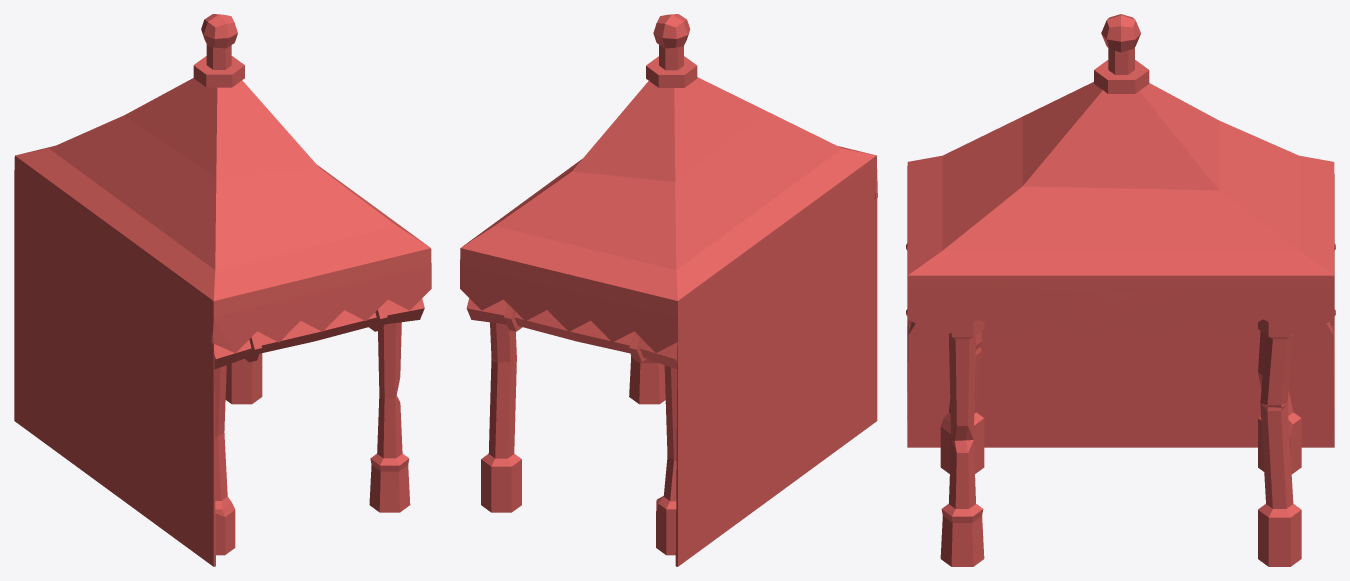
File: Tenda final.fbx
3 views of the same model, side by side, from view 1: azimuth 30°, elevation 25°; view 2: azimuth 150°, elevation 25°; view 3: azimuth 270°, elevation 25° (orthographic). The views are drawn at different scales.
Visible parts, largest first — view 1: tent01; view 2: tent01; view 3: tent01.
Part boxes in pixels (left/top/right/bottom): tent01: left=14, top=14, right=431, bottom=566; tent01: left=460, top=14, right=877, bottom=566; tent01: left=906, top=14, right=1335, bottom=566.
Bounding box in the file's own units: 2.67 × 5.37 × 4.24.
